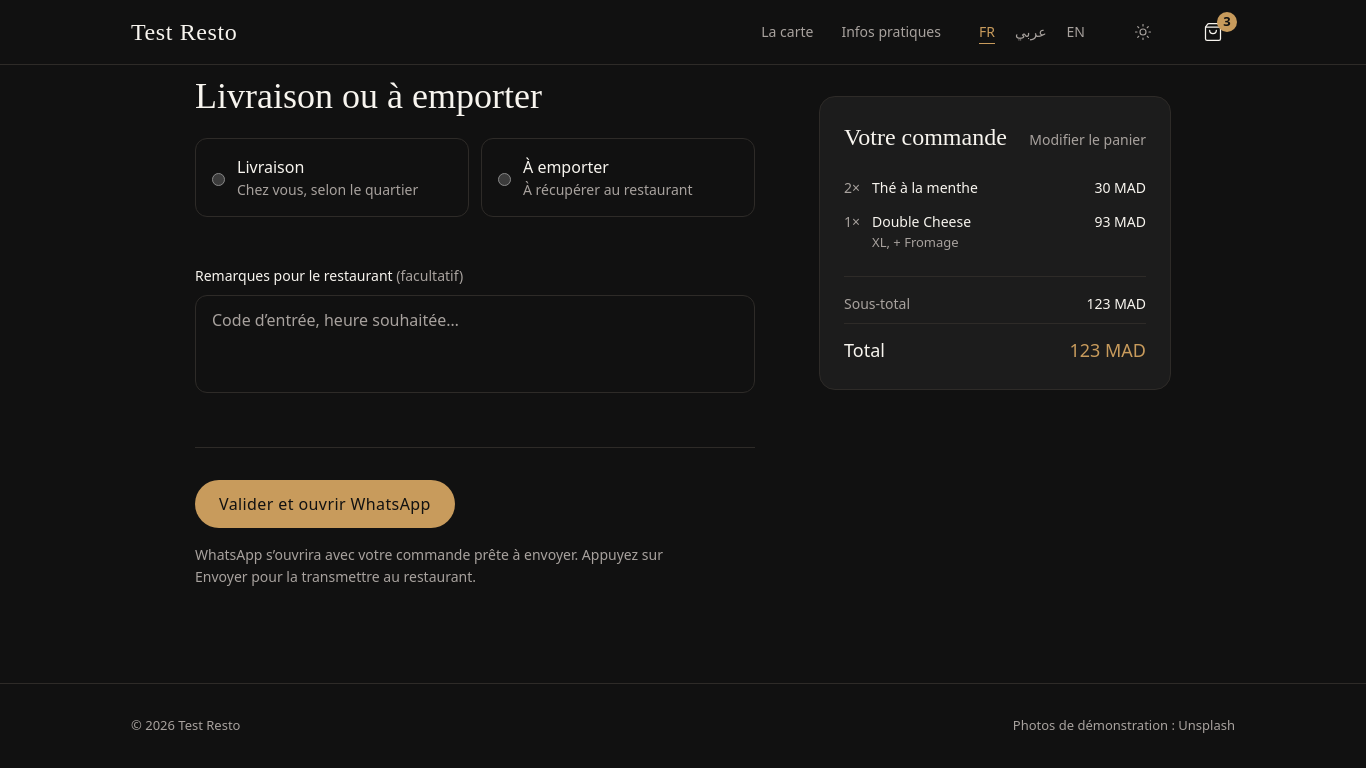
checkout › validates the form with translated messages and focuses the first error
(page scrolled)
Expected: the radio button labelled "Livraison Chez vous, selon le quartier" is shown, [212,159,225,200]
What coordinates should you click on to do the following:
click the button "Valider et ouvrir WhatsApp"
I would click on:
 (325, 504)
Its box is [195,480,455,528].
(page scrolled)
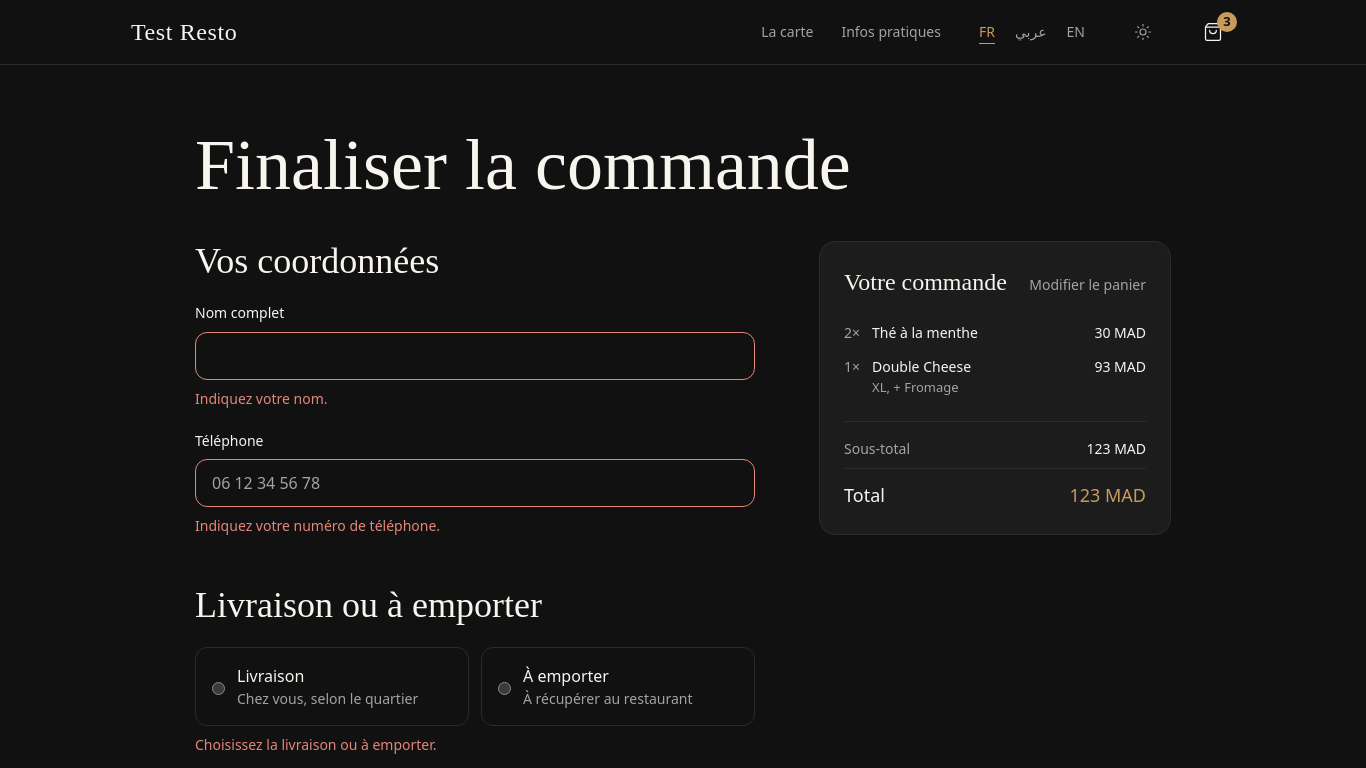
Expected: the text "Indiquez votre nom." is shown, [195,389,328,408]
Expected: the text "Indiquez votre numéro de téléphone." is shown, [195,516,440,536]
Expected: the text "Choisissez la livraison ou à emporter." is shown, [195,735,436,754]
